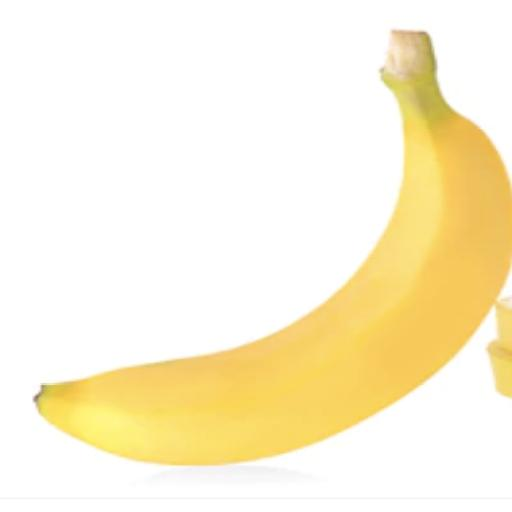banana: (37, 31, 511, 464), (488, 297, 511, 397)
